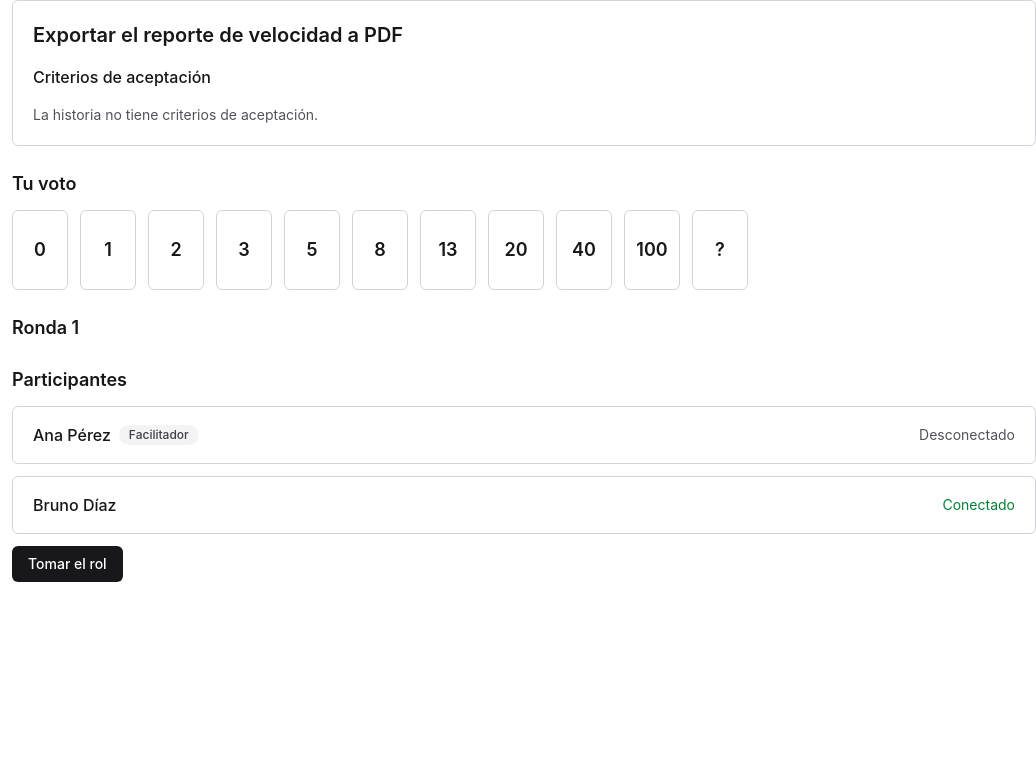
Test: 005/US6 - Sobrevivir a las desconexiones y relevar al facilitador › limpia el aviso del rechazo cuando la toma del rol se acepta
This screenshot has width=1036, height=768.
Expected: the heading "Participantes" is shown, [12, 369, 127, 390]
Click the button "Tomar el rol" at (67, 564), box [12, 546, 123, 582]
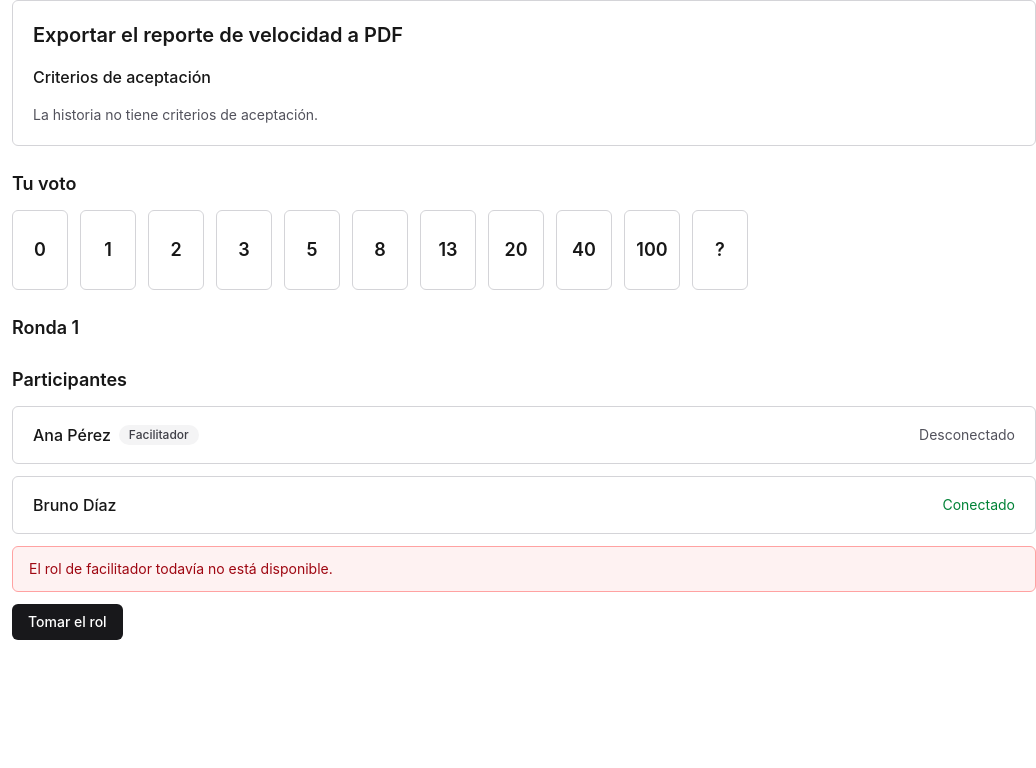
Now the message "El rol de facilitador todavía no está disponible." is shown, box [12, 546, 1035, 592]
Click the button "Tomar el rol" at (67, 622), box [12, 604, 123, 640]
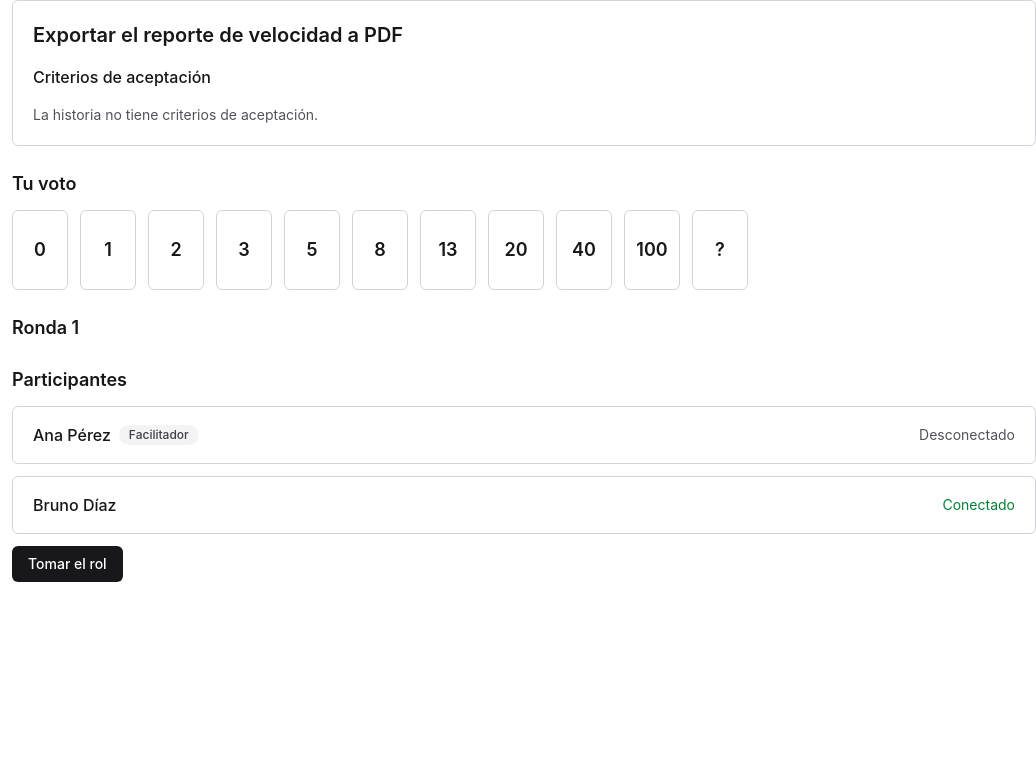
Now the message "El rol de facilitador todavía no está disponible." is gone
